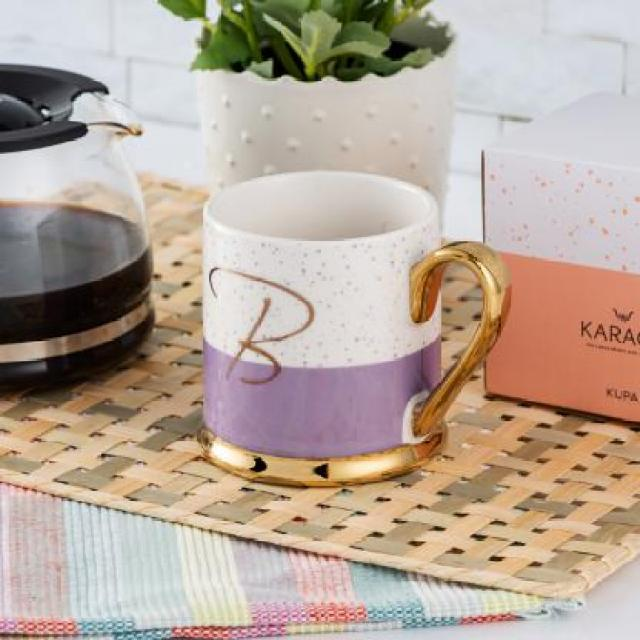taza: (204, 170, 514, 486)
